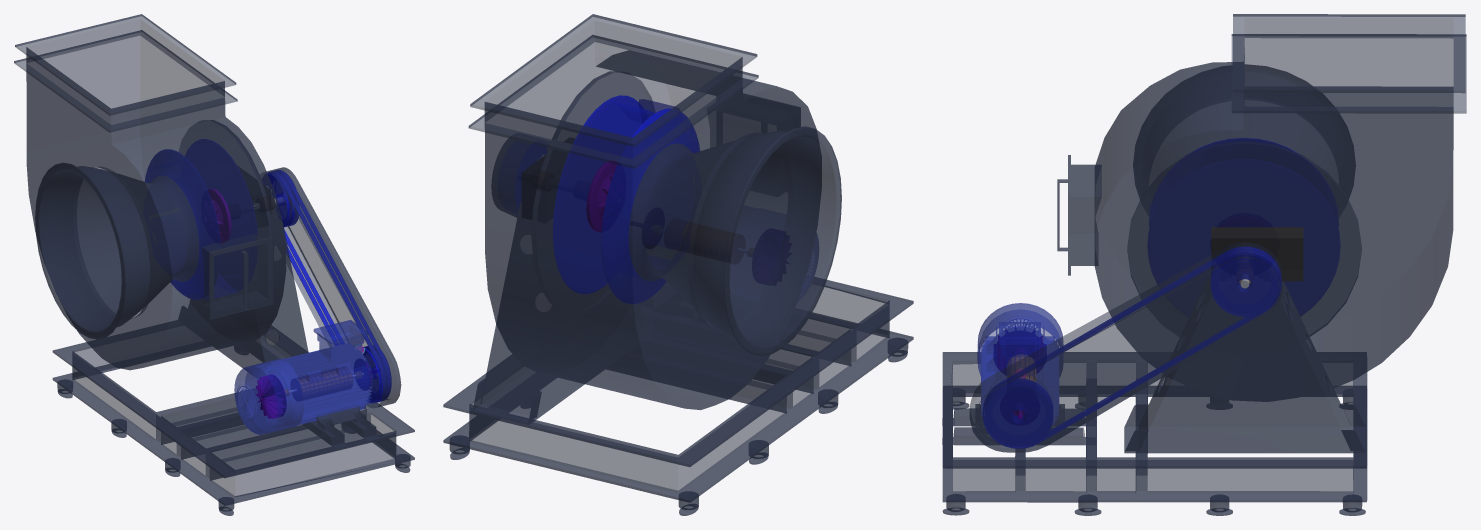
File: newfan1027-g.glb
The picture shows the model from 3 angles, left to right: view 1: azimuth 30°, elevation 25°; view 2: azimuth 150°, elevation 25°; view 3: azimuth 270°, elevation 25°; orthographic projection. The views are drawn at different scales.
Parts seen in each view (by area): view 1: out2.fj, zj, out1.fj, p1.fj, out1.pd, out2.dj, out1.dj, p3.pd, out2.pd, out3.dj, p1.dj, p1.pd (+4 smaller); view 2: out2.fj, zj, out1.fj, p1.fj, p2.fj, out3.fj, p1.pd; view 3: out2.fj, zj, out2.pd, p1.fj, out1.fj, out1.pd, out2.dj, p3.pd, p2.pd, p1.pd, out3.fj, out1.dj (+1 smaller).
Part boxes in pixels (bbox=[...]): out2.fj: bbox=[14, 14, 286, 370]; zj: bbox=[52, 218, 414, 515]; out1.fj: bbox=[35, 162, 198, 339]; p1.fj: bbox=[145, 139, 257, 299]; out1.pd: bbox=[266, 167, 401, 408]; out2.dj: bbox=[265, 343, 373, 426]; out1.dj: bbox=[234, 358, 303, 434]; p3.pd: bbox=[265, 170, 390, 403]; out2.pd: bbox=[288, 174, 397, 399]; out3.dj: bbox=[313, 320, 367, 362]; p1.dj: bbox=[255, 374, 286, 418]; p1.pd: bbox=[262, 173, 299, 227]; out2.fj: bbox=[468, 14, 821, 410]; zj: bbox=[443, 203, 913, 515]; out1.fj: bbox=[629, 126, 841, 356]; p1.fj: bbox=[553, 95, 699, 303]; p2.fj: bbox=[586, 160, 617, 232]; out3.fj: bbox=[522, 155, 545, 219]; p1.pd: bbox=[515, 144, 546, 209]; out2.fj: bbox=[1057, 14, 1466, 401]; zj: bbox=[942, 272, 1367, 515]; out2.pd: bbox=[975, 258, 1277, 447]; p1.fj: bbox=[1147, 138, 1340, 316]; out1.fj: bbox=[1133, 64, 1355, 202]; out1.pd: bbox=[969, 242, 1282, 452]; out2.dj: bbox=[981, 323, 1058, 424]; p3.pd: bbox=[982, 246, 1281, 448]; p2.pd: bbox=[984, 378, 1053, 447]; p1.pd: bbox=[1210, 253, 1279, 316]; out3.fj: bbox=[1211, 227, 1303, 281]; out1.dj: bbox=[977, 303, 1063, 377].
Bounding box in the file's own units: 2.55 × 3.64 × 4.43.
